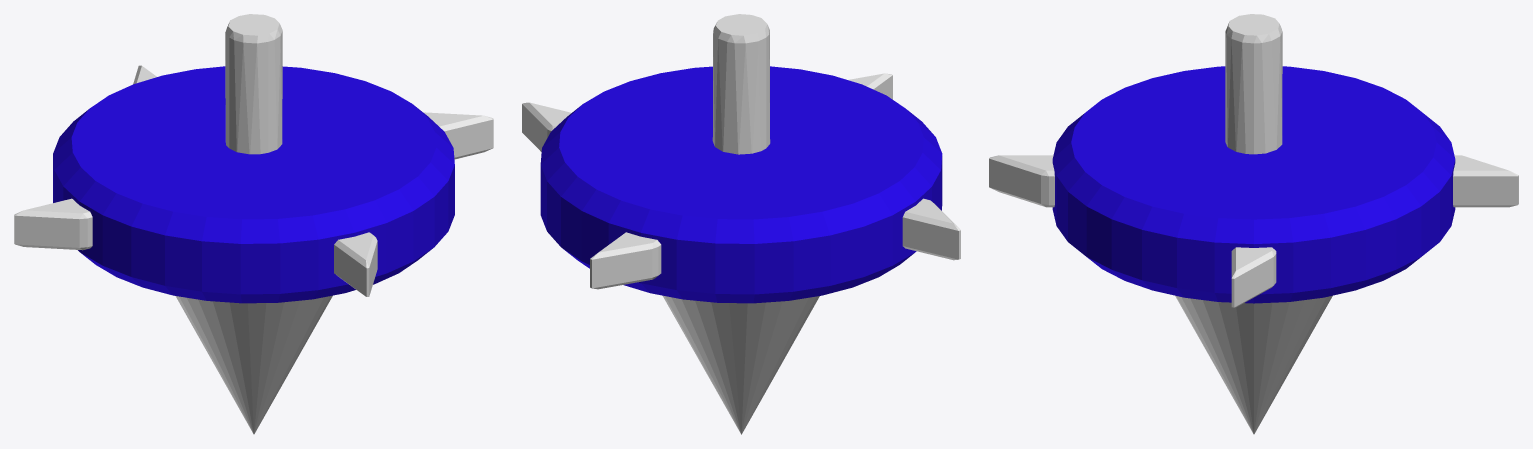
The model's file is top.fbx.
3 views of the same model, side by side, from view 1: azimuth 30°, elevation 25°; view 2: azimuth 150°, elevation 25°; view 3: azimuth 270°, elevation 25° (orthographic).
Parts seen in each view (by area): view 1: Top; view 2: Top; view 3: Top.
Part boxes in pixels (box(x1,y1,x2,y2)): Top: box(14, 14, 493, 434); Top: box(522, 14, 960, 434); Top: box(989, 14, 1518, 434).
Size of the model in its own units: 12.05 by 10.29 by 12.05.
